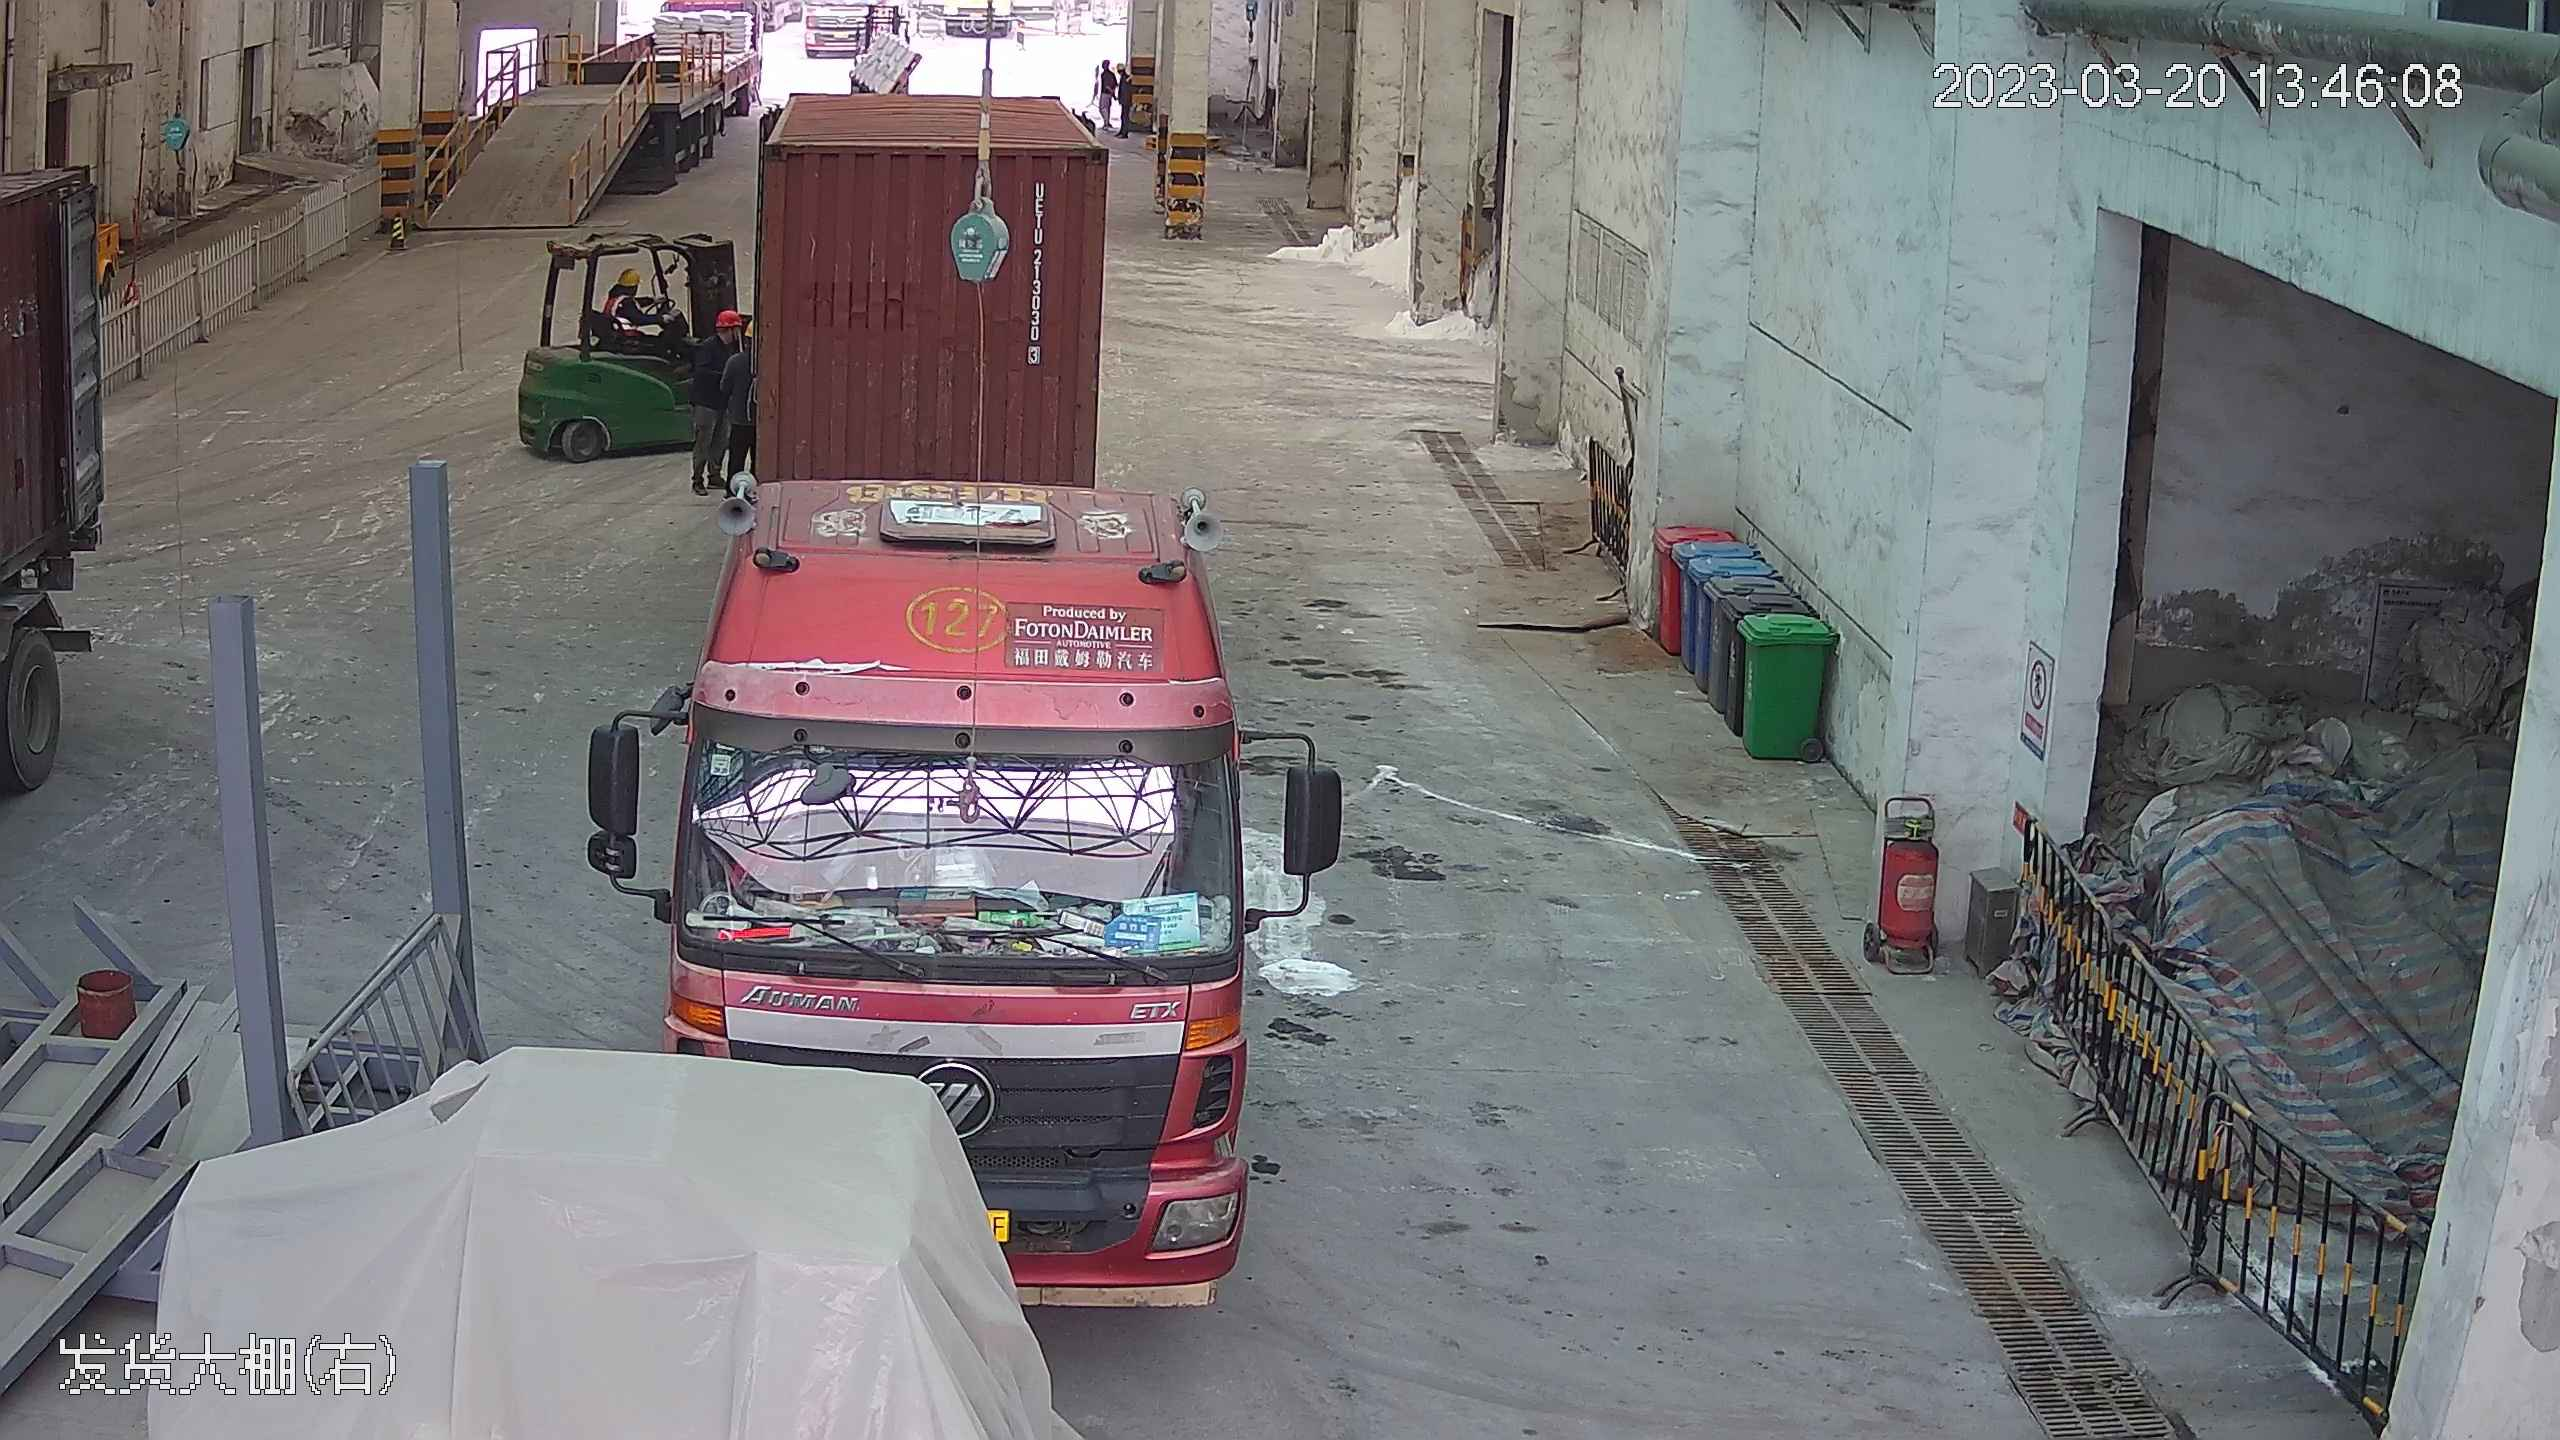head: (702, 307, 754, 374), (603, 264, 656, 320)
helmet: (715, 306, 743, 329), (617, 265, 643, 284)
people: (689, 304, 756, 503), (598, 264, 677, 369)
truck: (644, 21, 1269, 1316)
